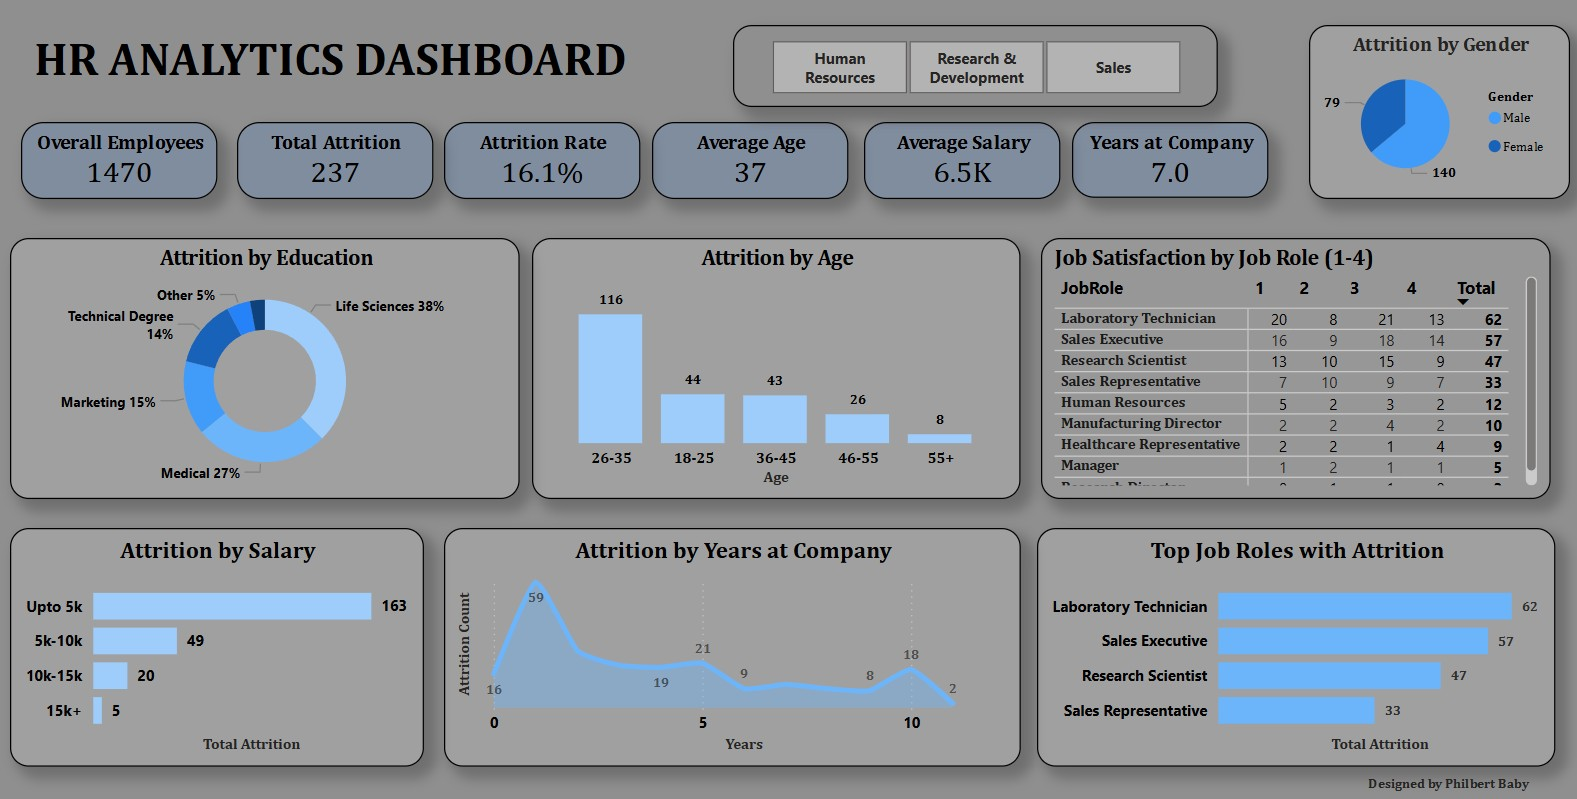

The page's visual inventory and layout, read from the dashboard file:
{"tool":"powerbi","page":{"name":"Page 1","canvas":[1280,650],"ordinal":0},"visuals":[{"type":"card","title":"Overall Employees","fields":{"Values":["CountNonNull(HR_Analytics.EmpID)"]},"box":[18.5,98.2,157.6,62.2],"z":0},{"type":"card","title":"Total Attrition","fields":{"Values":["Sum(HR_Analytics.AttritionCount)"]},"box":[192.6,98.2,157.6,62.2],"z":1000},{"type":"card","title":"Attrition Rate","fields":{"Values":["HR_Analytics.AttritionRate"]},"box":[358.9,98.2,157.6,62.2],"z":2000},{"type":"card","title":"Average Age","fields":{"Values":["Avg(HR_Analytics.Age)"]},"box":[526.2,98.2,157.6,62.2],"z":3000},{"type":"card","title":"Average Salary","fields":{"Values":["Avg(HR_Analytics.MonthlyIncome)"]},"box":[696.4,98.2,157.6,62.2],"z":4000},{"type":"card","title":"Years at Company","fields":{"Values":["Avg(HR_Analytics.YearsAtCompany)"]},"box":[863.7,98.2,157.6,61.3],"z":5000},{"type":"donutChart","title":"Attrition by Education","fields":{"Category":["HR_Analytics.EducationField"],"Y":["Sum(HR_Analytics.AttritionCount)"]},"box":[9.7,191.6,410.5,210.1],"z":6000},{"type":"columnChart","title":"Attrition by Age","fields":{"Category":["HR_Analytics.AgeGroup"],"Y":["Sum(HR_Analytics.AttritionCount)"]},"box":[429.9,191.6,392.9,210.1],"z":7000},{"type":"pivotTable","title":"Job Satisfaction by Job Role (1-4)","fields":{"Rows":["HR_Analytics.JobRole"],"Columns":["HR_Analytics.JobSatisfaction"],"Values":["Sum(HR_Analytics.AttritionCount)"]},"box":[839.4,191.6,410.5,210.1],"z":8000},{"type":"barChart","title":"Attrition by Salary ","fields":{"Category":["HR_Analytics.SalarySlab"],"Y":["Sum(HR_Analytics.AttritionCount)"]},"box":[9.7,425,332.6,191.6],"z":9000},{"type":"barChart","title":"Top Job Roles with Attrition","fields":{"Category":["HR_Analytics.JobRole"],"Y":["Sum(HR_Analytics.AttritionCount)"]},"box":[835.5,425,417.3,191.6],"z":10000},{"type":"areaChart","title":"Attrition by Years at Company","fields":{"Category":["HR_Analytics.YearsAtCompany"],"Y":["Sum(HR_Analytics.AttritionCount)"]},"box":[358.9,425,464,191.6],"z":11000},{"type":"pieChart","title":"Attrition by Gender","fields":{"Category":["HR_Analytics.Gender"],"Y":["Sum(HR_Analytics.AttritionCount)"]},"box":[1054.3,20,210,140],"z":12000},{"type":"slicer","fields":{"Values":["HR_Analytics.Department"]},"box":[591.4,20.4,390,66.1],"z":13000},{"type":"textbox","box":[24.3,20.4,528.1,60.3],"z":14000},{"type":"textbox","box":[1097.1,614.7,182.9,35],"z":15000}]}

Visuals, with their boxes in screenshot pixels (x1, y1, x2, y2), scaled from the page's 1280x650 canvas onto the 1577x799 screenshot:
"Overall Employees" card: locate(23, 121, 217, 197)
"Total Attrition" card: locate(237, 121, 431, 197)
"Attrition Rate" card: locate(442, 121, 636, 197)
"Average Age" card: locate(648, 121, 842, 197)
"Average Salary" card: locate(858, 121, 1052, 197)
"Years at Company" card: locate(1064, 121, 1258, 196)
"Attrition by Education" donutChart: locate(12, 236, 518, 494)
"Attrition by Age" columnChart: locate(530, 236, 1014, 494)
"Job Satisfaction by Job Role (1-4)" pivotTable: locate(1034, 236, 1540, 494)
"Attrition by Salary " barChart: locate(12, 522, 422, 758)
"Top Job Roles with Attrition" barChart: locate(1029, 522, 1543, 758)
"Attrition by Years at Company" areaChart: locate(442, 522, 1014, 758)
"Attrition by Gender" pieChart: locate(1299, 25, 1558, 197)
slicer - HR_Analytics.Department: locate(729, 25, 1209, 106)
textbox: locate(30, 25, 681, 99)
textbox: locate(1352, 756, 1576, 798)
